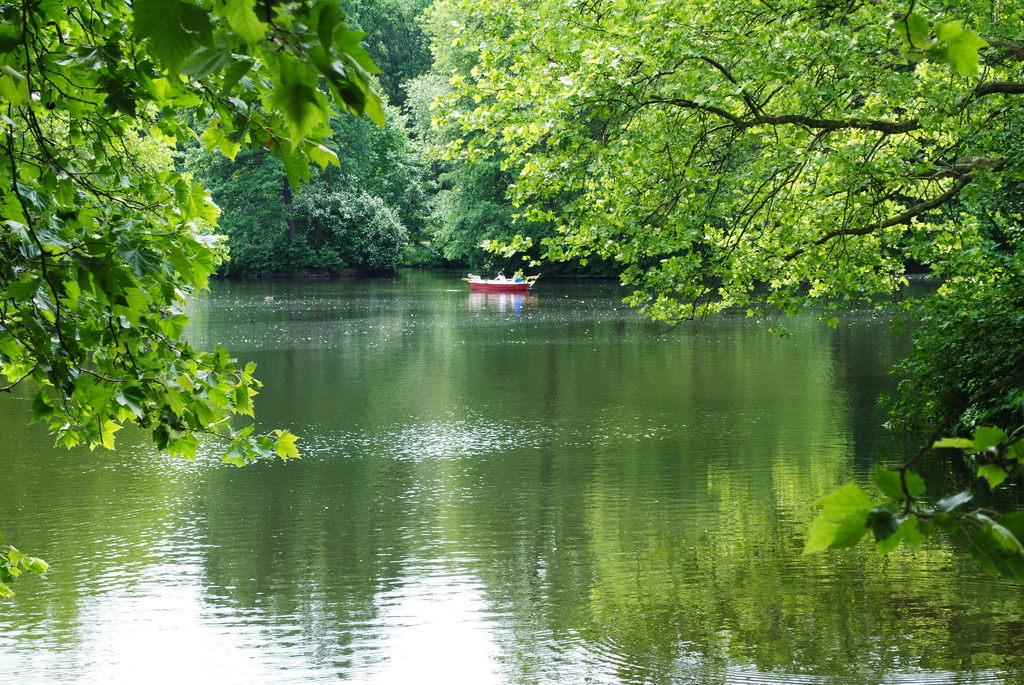Tree: (398, 0, 1023, 583), (0, 0, 387, 599)
